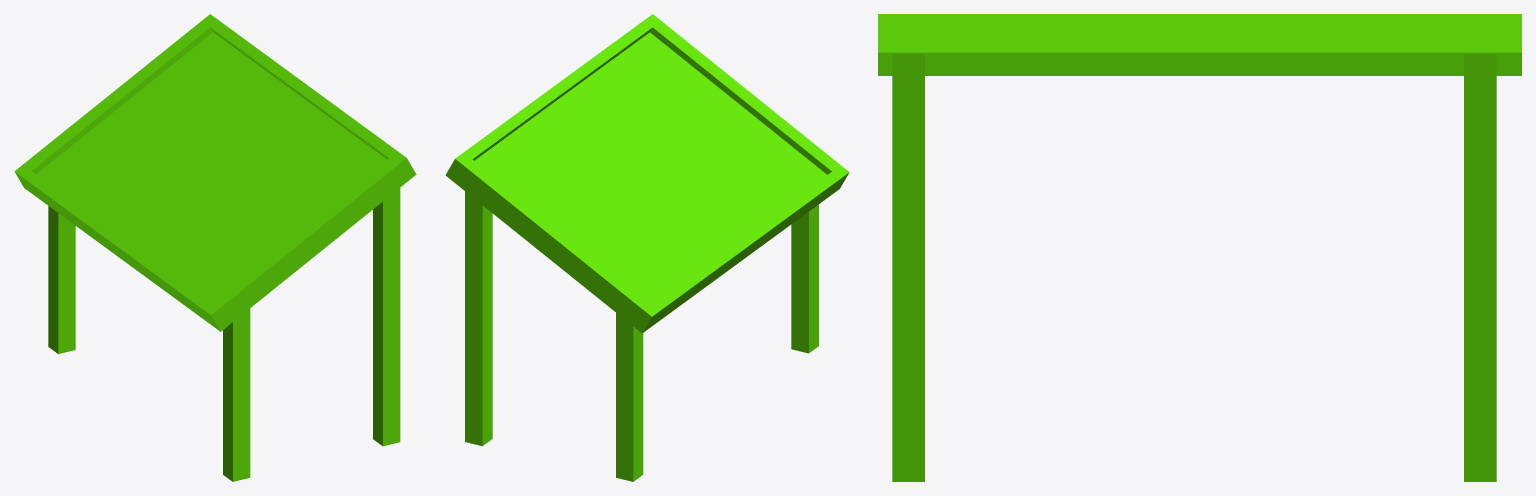
The model's file is PuertoTutorial.fbx.
The picture shows the model from 3 angles, left to right: view 1: azimuth 30°, elevation 25°; view 2: azimuth 150°, elevation 25°; view 3: azimuth 270°, elevation 25°; orthographic projection. The views are drawn at different scales.
Visible parts, largest first — view 1: Cube; view 2: Cube; view 3: Cube.
Boxes of the visible parts, x1,y1,x2,y2 form: Cube: [14, 14, 416, 481]; Cube: [445, 14, 849, 481]; Cube: [878, 14, 1521, 481].
Size of the model in its own units: 91.35 by 151 by 122.
